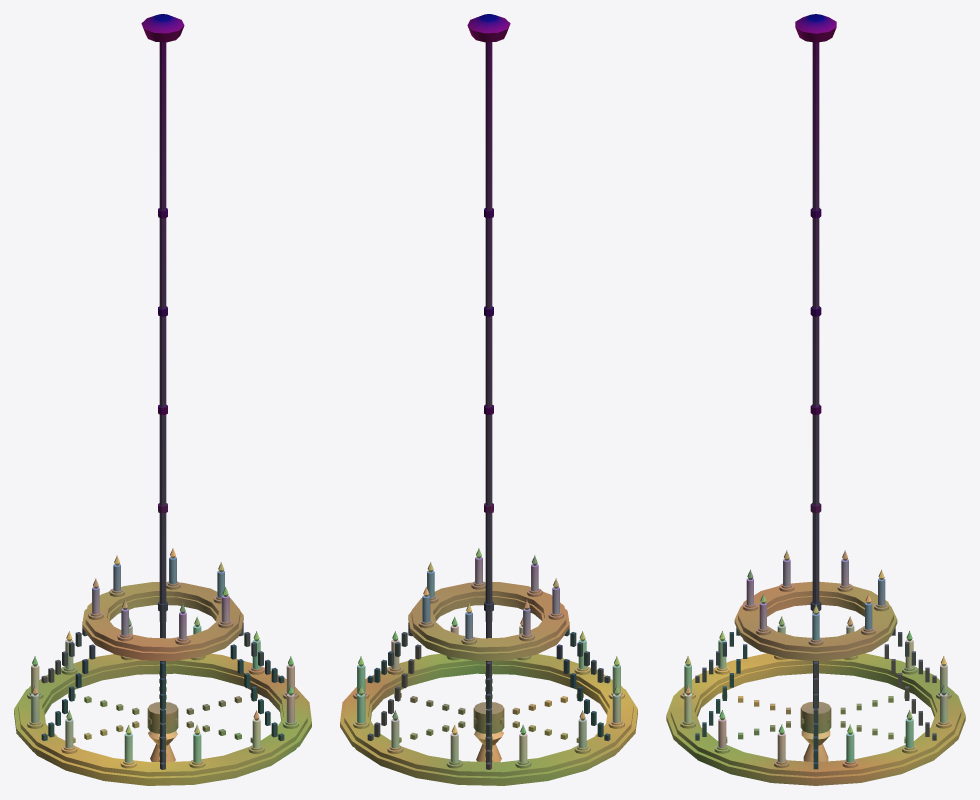
File: chandelier_dome_low.glb
3 views of the same model, side by side, from view 1: azimuth 30°, elevation 25°; view 2: azimuth 150°, elevation 25°; view 3: azimuth 270°, elevation 25° (orthographic).
Parts seen in each view (by area): view 1: chand_ring, chand_chain, chand_candles, chand_boss; view 2: chand_ring, chand_chain, chand_candles, chand_boss; view 3: chand_ring, chand_chain, chand_candles, chand_boss, chand_drop.
Boxes of the visible parts, x1,y1,x2,y2 form: chand_ring: (14, 581, 311, 785); chand_chain: (41, 42, 284, 769); chand_candles: (31, 557, 294, 762); chand_boss: (141, 14, 184, 42); chand_ring: (340, 581, 637, 785); chand_chain: (367, 42, 610, 769); chand_candles: (357, 557, 620, 762); chand_boss: (467, 14, 510, 42); chand_ring: (666, 581, 965, 785); chand_chain: (695, 42, 936, 769); chand_candles: (684, 559, 947, 762); chand_boss: (795, 14, 836, 42); chand_drop: (801, 730, 830, 761).
Size of the model in its own units: 2.76 by 7.7 by 2.76.
